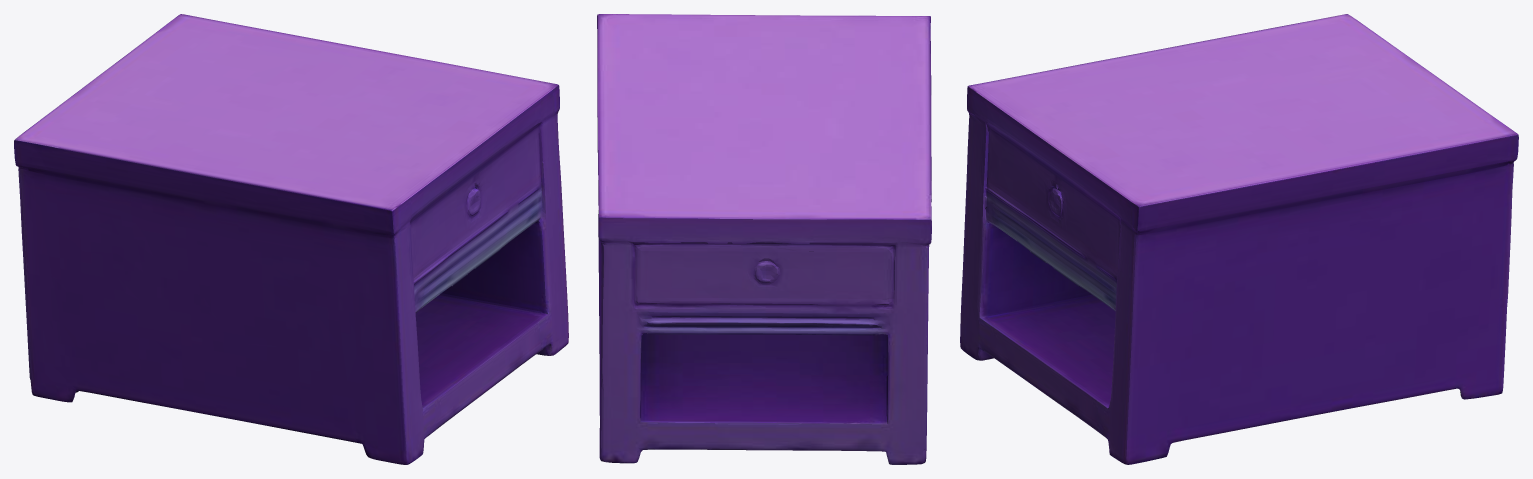
The model's file is purple_side_table_000.glb.
3 renders of one model, left to right at view 1: azimuth 30°, elevation 25°; view 2: azimuth 150°, elevation 25°; view 3: azimuth 270°, elevation 25°, orthographic.
Parts seen in each view (by area): view 1: purple_side_table_000.obj; view 2: purple_side_table_000.obj; view 3: purple_side_table_000.obj.
Boxes of the visible parts, x1,y1,x2,y2 form: purple_side_table_000.obj: [14, 14, 568, 464]; purple_side_table_000.obj: [597, 14, 931, 464]; purple_side_table_000.obj: [960, 14, 1518, 464].
Bounding box in the file's own units: 0.5107 × 0.3055 × 0.5509.
Materials: 1 (1 with a texture image).
